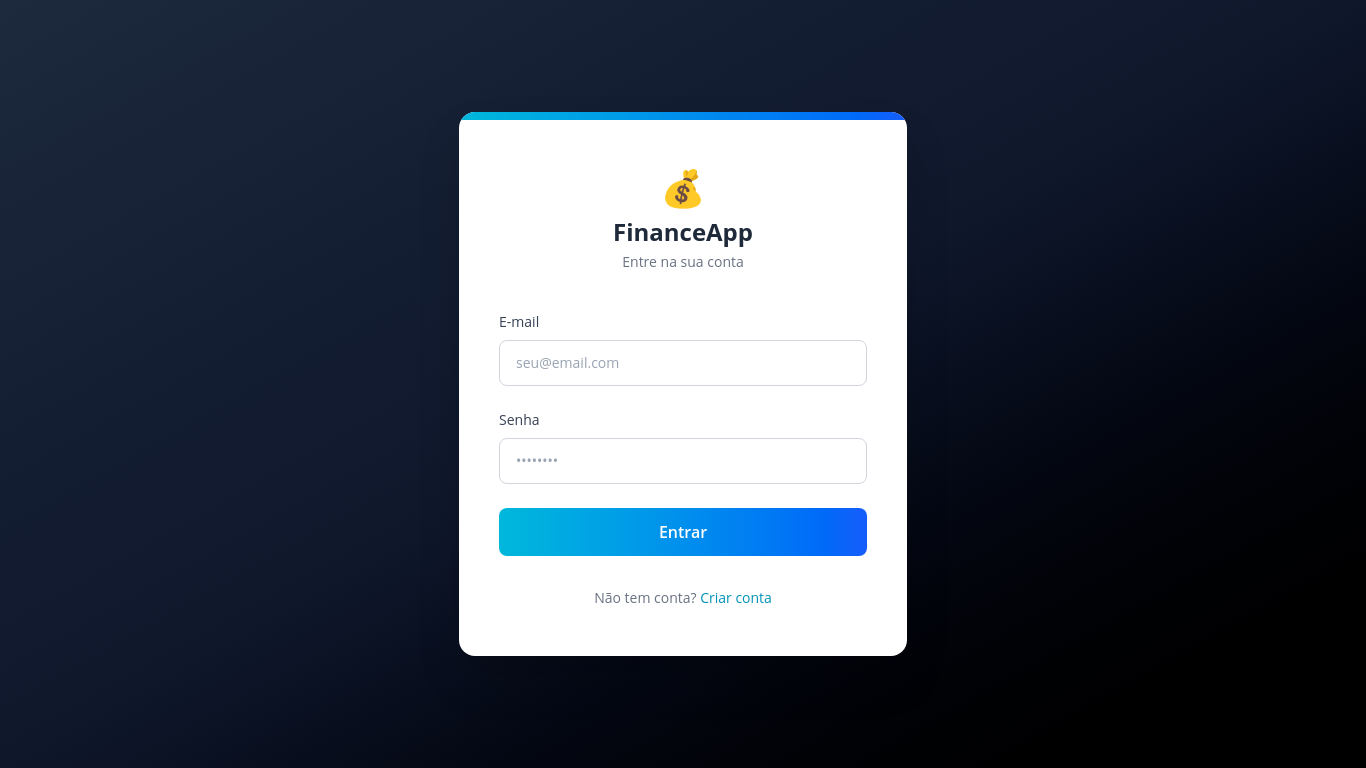
Test case: LoginPage – integração › shows loading state while submitting
Step 1. Type "a@b.com" into the field with placeholder "seu@email.com" → (683, 363), box [499,340,867,386]
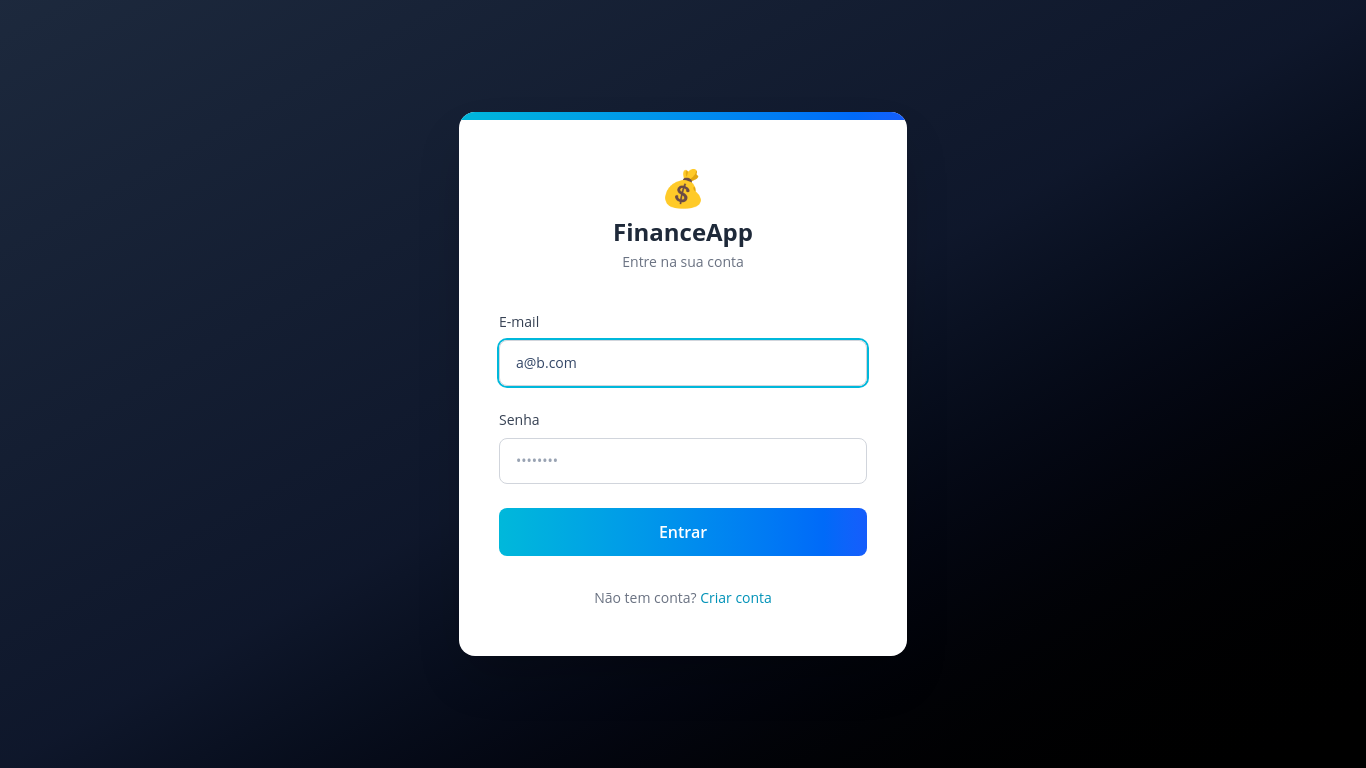
Step 2. Type "pass1234" into the password field with placeholder "••••••••" → (683, 461), box [499,438,867,484]
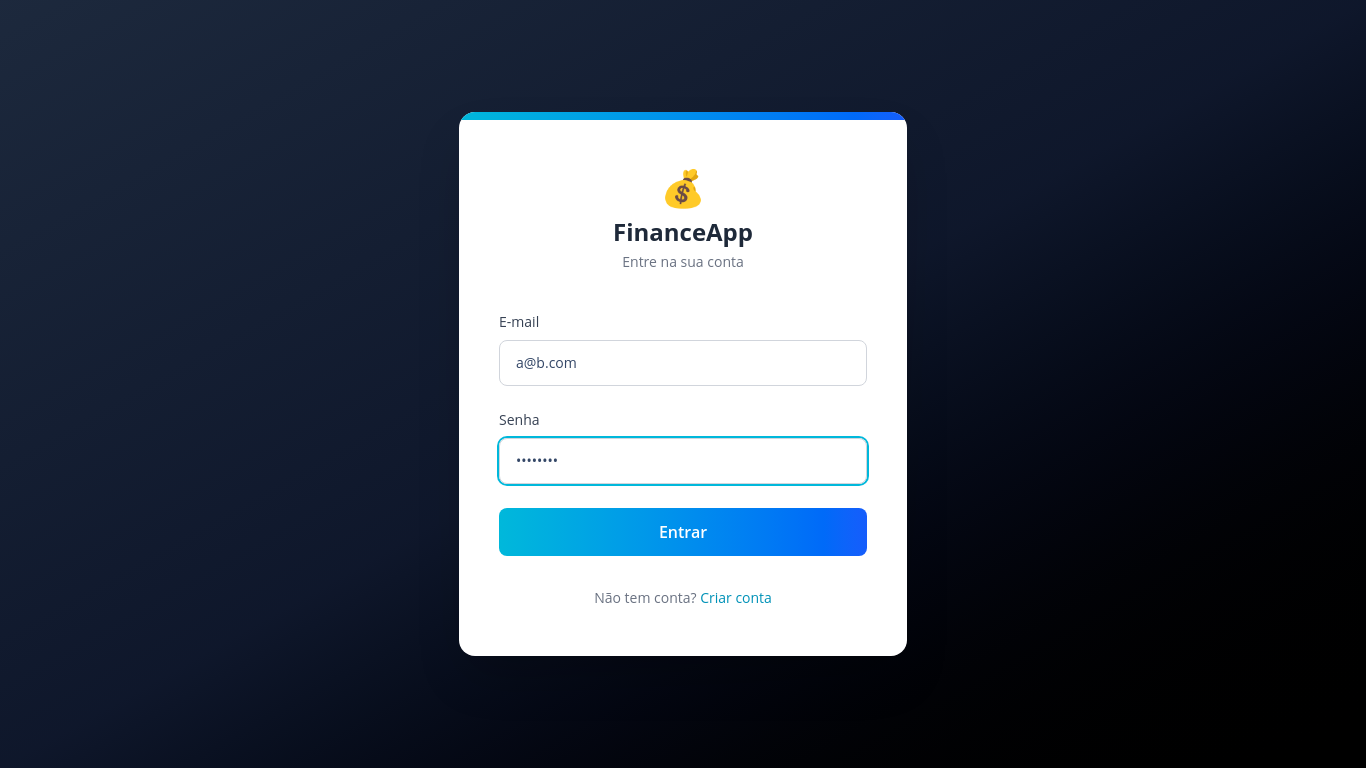
Step 3. Click the button "Entrar" → (683, 532), box [499,508,867,556]
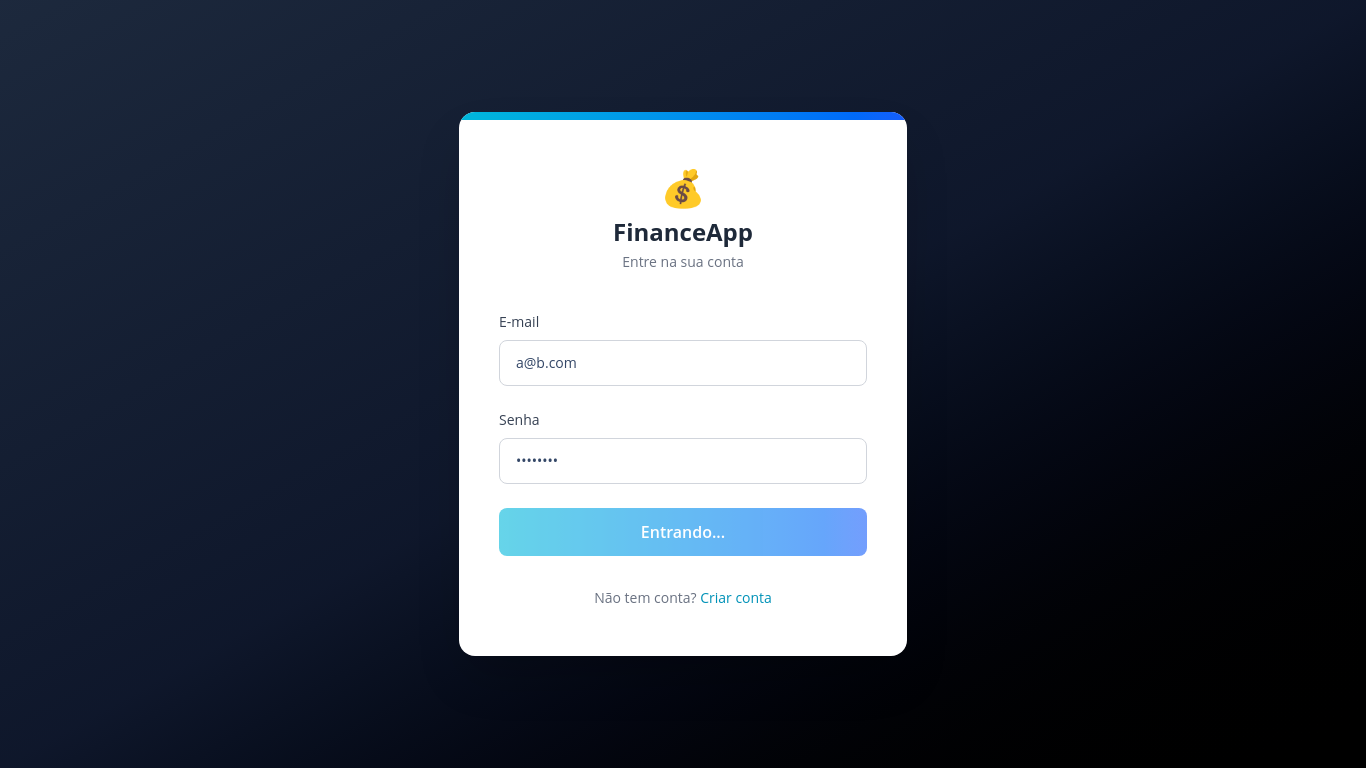
Now the button "Entrando..." is disabled, box [499,508,867,556]
